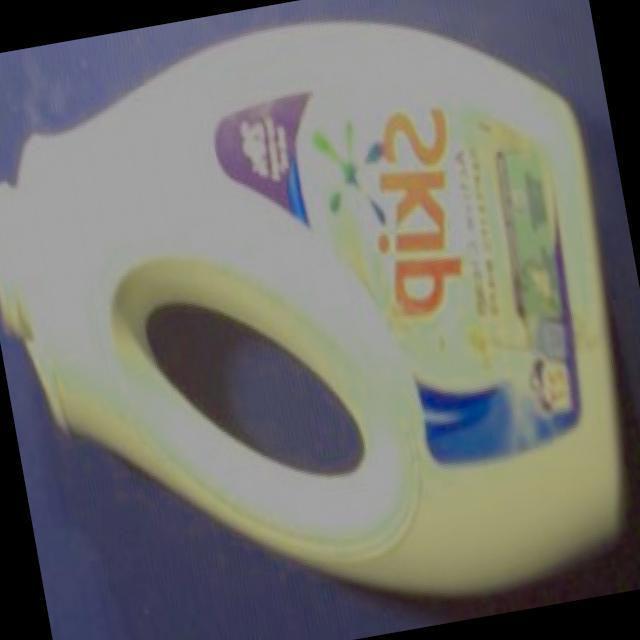HDPE Plastic: (2, 14, 632, 604)
